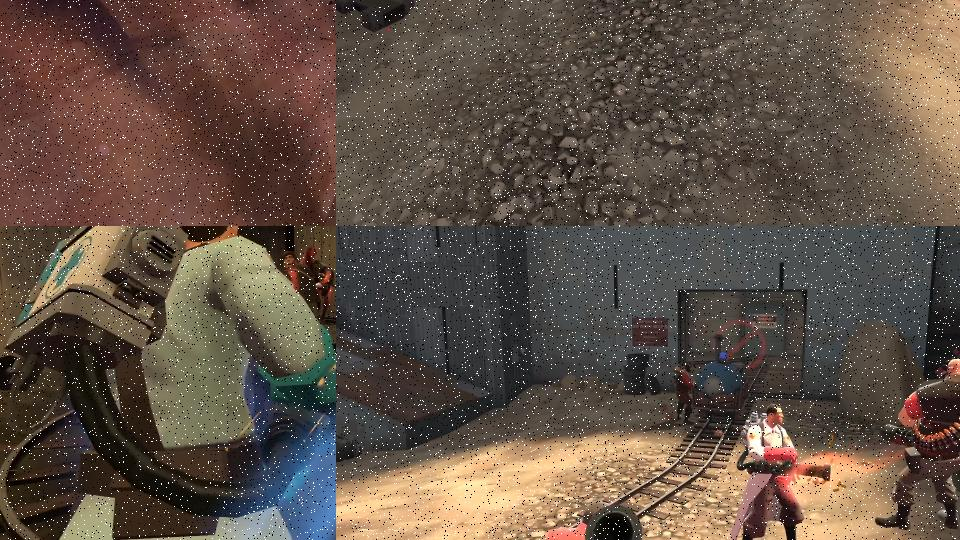Enemy: (0, 226, 336, 540), (873, 356, 960, 530), (729, 402, 831, 540), (520, 499, 643, 540), (279, 246, 321, 325), (670, 363, 697, 425), (311, 259, 334, 323)
